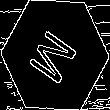M_SE: (26, 22, 84, 88)
